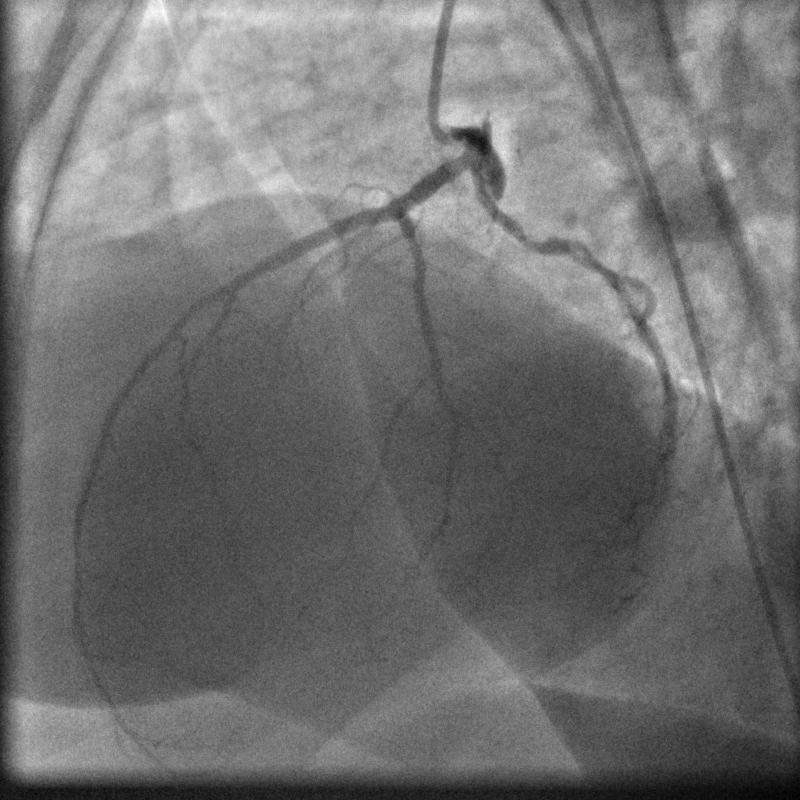Stenosis: (515, 217, 562, 265)
